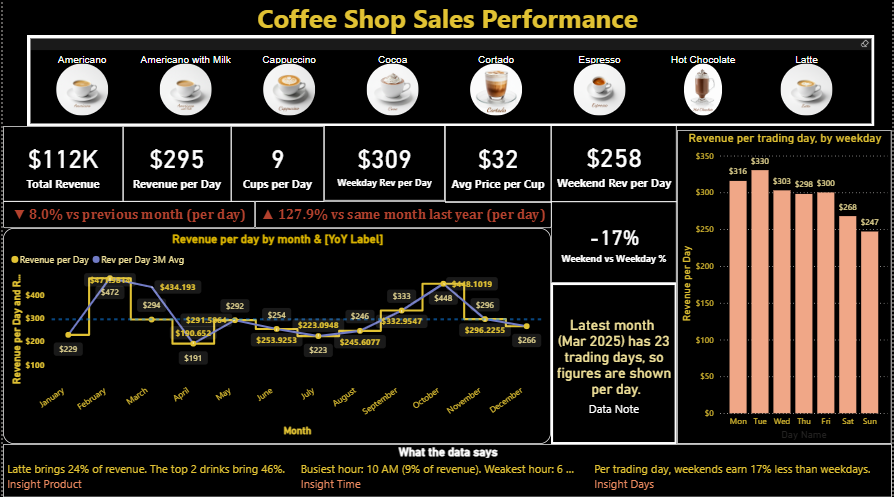

This screenshot's page, from the dashboard's own definition file:
{"tool":"powerbi","page":{"name":"Overview","canvas":[1280,720],"ordinal":0},"visuals":[{"type":"textbox","box":[0,0,1280.2,83.5],"z":0},{"type":"ChicletSlicer1448559807354","fields":{"Category":["Product.Product"],"Image":["Product.Image URL"]},"box":[34.6,54.7,1219.7,131],"z":1000},{"type":"card","fields":{"Values":["Measures (2).Total Revenue"]},"box":[0,185.8,172.8,109.4],"z":2000},{"type":"card","fields":{"Values":["Measures (2).Revenue per Day"]},"box":[172.8,185.8,155.5,109.4],"z":3000},{"type":"card","fields":{"Values":["Measures (2).Cups per Day"]},"box":[328.3,185.8,133.9,109.4],"z":4000},{"type":"card","fields":{"Values":["Calendar.Avg Price per Cup"]},"box":[636.5,184.3,152.6,112.3],"z":5000},{"type":"card","fields":{"Values":["Calendar.MoM Label"]},"box":[0,294,362.8,38.6],"z":6000},{"type":"card","fields":{"Values":["Calendar.YoY Label"]},"box":[362.8,294,426.7,38.6],"z":7000},{"type":"lineChart","title":"Revenue per day by month & [YoY Label]","fields":{"Category":["Calendar.Month Start.Variation.Date Hierarchy.Month"],"Y":["Measures (2).Revenue per Day","Calendar.Rev per Day 3M Avg"]},"box":[0,332.6,789.1,311],"z":8000},{"type":"card","fields":{"Values":["Calendar.Data Note"]},"box":[789.1,411.8,181.4,231.8],"z":9000},{"type":"card","fields":{"Values":["Calendar.Weekday Rev per Day"]},"box":[462.2,184.3,174.2,109.4],"z":10000},{"type":"card","fields":{"Values":["Calendar.Weekend Rev per Day"]},"box":[789.1,184.3,181.4,110.9],"z":11000},{"type":"card","fields":{"Values":["Calendar.Weekend vs Weekday %"]},"box":[789.1,293.8,181.4,118.1],"z":12000},{"type":"columnChart","title":"Revenue per trading day, by weekday","fields":{"Category":["Calendar.Day Name"],"Y":["Measures (2).Revenue per Day"]},"box":[970.9,191.5,309.1,451.9],"z":13000},{"type":"multiRowCard","title":"What the data says","fields":{"Values":["Calendar.Insight Product","Calendar.Insight Time","Calendar.Insight Days"]},"box":[0,643.4,1280,77.3],"z":14000}]}

Visuals, with their boxes in screenshot pixels (x1, y1, x2, y2), scaled from the page's 1280x720 canvas onto the 894x497 screenshot:
textbox: rect(0, 0, 893, 58)
ChicletSlicer1448559807354 - Product.Product x Product.Image URL: rect(24, 38, 876, 128)
card - Measures (2).Total Revenue: rect(0, 128, 121, 204)
card - Measures (2).Revenue per Day: rect(121, 128, 229, 204)
card - Measures (2).Cups per Day: rect(229, 128, 323, 204)
card - Calendar.Avg Price per Cup: rect(445, 127, 551, 205)
card - Calendar.MoM Label: rect(0, 203, 253, 230)
card - Calendar.YoY Label: rect(253, 203, 551, 230)
"Revenue per day by month & [YoY Label]" lineChart: rect(0, 230, 551, 444)
card - Calendar.Data Note: rect(551, 284, 678, 444)
card - Calendar.Weekday Rev per Day: rect(323, 127, 444, 203)
card - Calendar.Weekend Rev per Day: rect(551, 127, 678, 204)
card - Calendar.Weekend vs Weekday %: rect(551, 203, 678, 284)
"Revenue per trading day, by weekday" columnChart: rect(678, 132, 893, 444)
"What the data says" multiRowCard: rect(0, 444, 893, 496)
